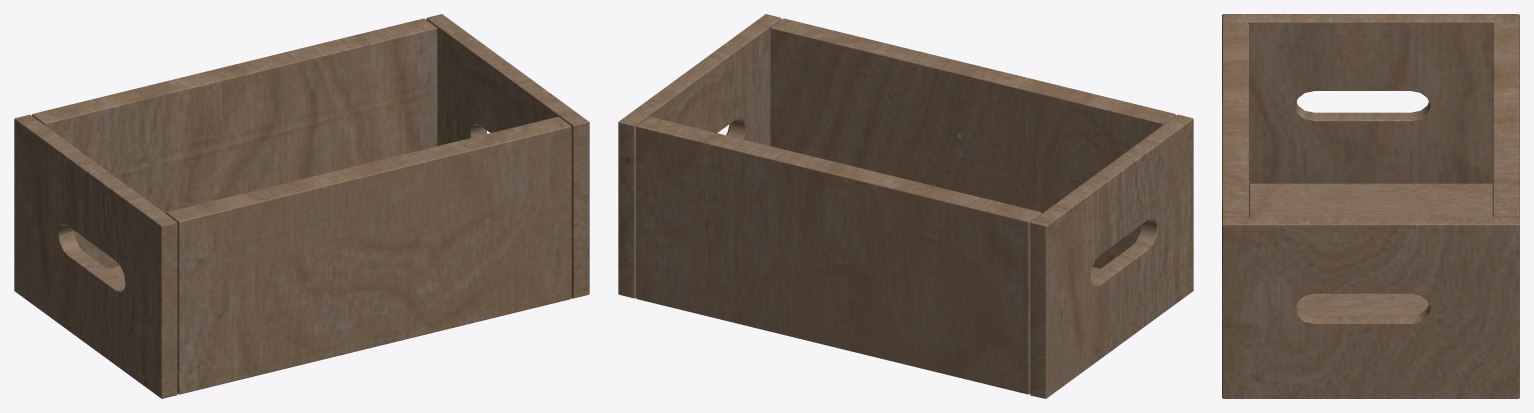
Rendered from SM_Middle_Table_General_Drawer.fbx.
3 views of the same model, side by side, from view 1: azimuth 30°, elevation 25°; view 2: azimuth 150°, elevation 25°; view 3: azimuth 270°, elevation 25° (orthographic).
Visible parts, largest first — view 1: SM_Middle_Table_General_Drawer_LOD0; view 2: SM_Middle_Table_General_Drawer_LOD0; view 3: SM_Middle_Table_General_Drawer_LOD0.
Part boxes in pixels (x1,y1,x2,y2): SM_Middle_Table_General_Drawer_LOD0: [14, 14, 589, 398]; SM_Middle_Table_General_Drawer_LOD0: [618, 14, 1193, 398]; SM_Middle_Table_General_Drawer_LOD0: [1222, 14, 1519, 398].
Bounding box in the file's own units: 64.19 × 38.3 × 24.84.
1 material, 1 textured.
